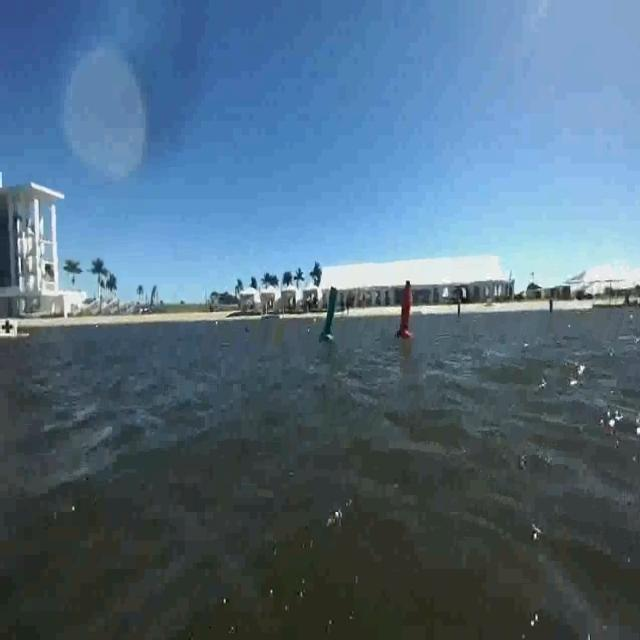green-column-buoy: (319, 285, 342, 340)
red-column-buoy: (395, 281, 414, 339)
